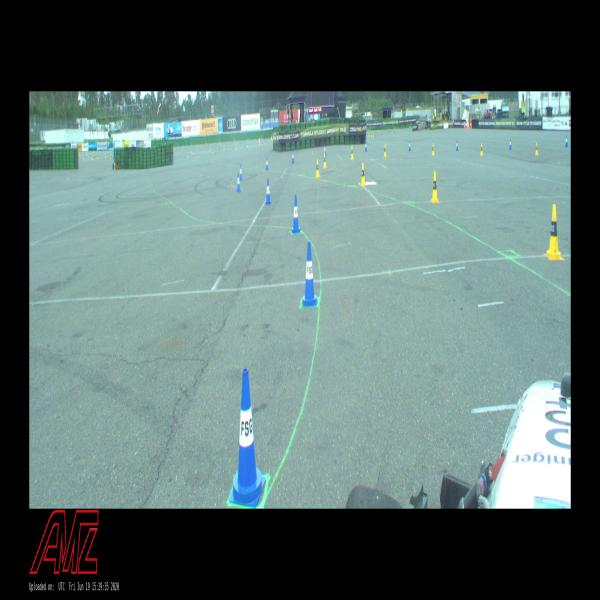blue_cone: (229, 368, 266, 507), (302, 242, 317, 306), (292, 195, 300, 234), (265, 179, 271, 204), (236, 172, 241, 192), (240, 164, 243, 180), (565, 135, 568, 147), (509, 138, 512, 149), (266, 157, 268, 170), (292, 151, 294, 163), (408, 140, 410, 151), (456, 140, 458, 151), (365, 141, 367, 152)
yellow_cone: (544, 204, 562, 260), (431, 171, 438, 203), (360, 162, 366, 186), (316, 159, 320, 178), (350, 145, 354, 160), (323, 153, 327, 168), (535, 142, 538, 155), (480, 143, 483, 156), (384, 144, 386, 157), (432, 143, 434, 155)
